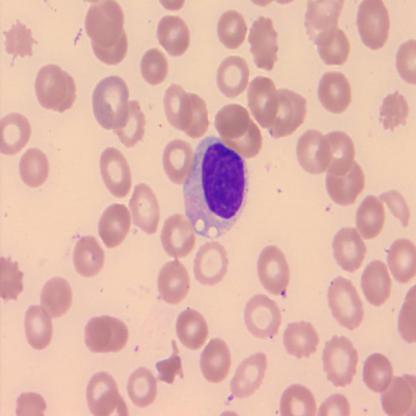Myelocyte: (186, 138, 251, 230)
